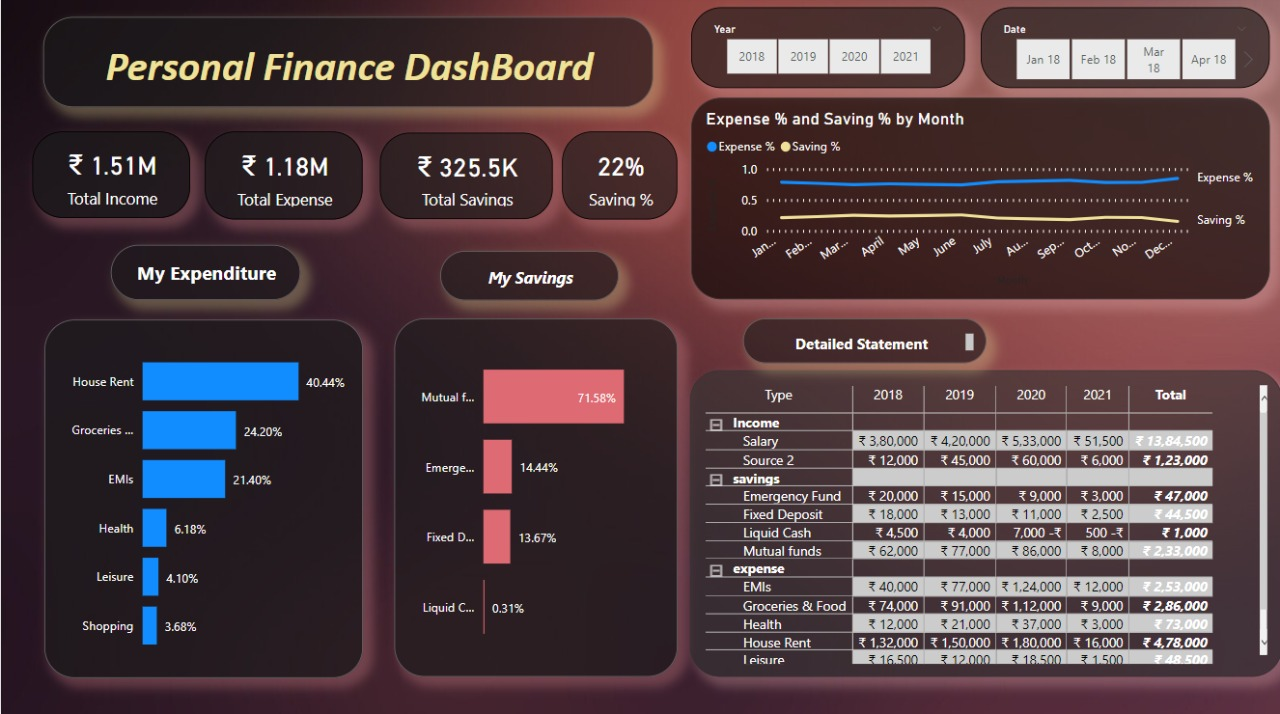

This screenshot's page, from the dashboard's own definition file:
{"tool":"powerbi","page":{"name":"Page 1","canvas":[1280,720],"ordinal":0},"visuals":[{"type":"slicer","fields":{"Values":["FinData.Year"]},"box":[689.4,12.4,273.3,81],"z":0},{"type":"card","fields":{"Values":["FinData.Total Income"]},"box":[30.8,136.5,157.9,86.5],"z":1000},{"type":"card","fields":{"Values":["FinData.Total Expense"]},"box":[203.8,136.5,157.9,87.9],"z":2000},{"type":"card","fields":{"Values":["FinData.Total Savings"]},"box":[379.1,137.3,173,86.5],"z":3000},{"type":"card","fields":{"Values":["FinData.Saving %"]},"box":[560.3,136,115.4,87.9],"z":4000},{"type":"slicer","fields":{"Values":["FinData.Date"]},"box":[979.2,12.4,288.4,81],"z":5000},{"type":"card","fields":{"Values":["FinData.Title"]},"box":[42.6,22,609.8,90.6],"z":6000},{"type":"clusteredBarChart","fields":{"Category":["FinData.Component"],"Y":["FinData.Total Expense"]},"box":[43.9,324.1,318.6,358.5],"z":6001},{"type":"textbox","box":[109.9,250,189.5,54.9],"z":6002},{"type":"textbox","box":[439.5,255.5,178.5,49.4],"z":6003},{"type":"clusteredBarChart","fields":{"Category":["FinData.Component"],"Y":["FinData.Total Savings"]},"box":[392.8,322.7,282.9,358.5],"z":6004},{"type":"lineChart","fields":{"Category":["FinData.Date.Variation.Date Hierarchy.Month"],"Y":["FinData.Expense %","FinData.Saving %"]},"box":[689.4,103,578.2,201.9],"z":6005},{"type":"pivotTable","fields":{"Values":["Sum(FinData.Value)"],"Rows":["type.Type","FinData.Component"],"Columns":["FinData.Year","FinData.Date"]},"box":[688.1,374.9,591.9,306.3],"z":6006},{"type":"textbox","box":[741.6,322.7,243.1,45],"z":6007}]}

Visuals, with their boxes in screenshot pixels (x1, y1, x2, y2), scaled from the page's 1280x720 canvas onto the 1280x714 screenshot:
slicer - FinData.Year: 689,12,963,93
card - FinData.Total Income: 31,135,189,221
card - FinData.Total Expense: 204,135,362,223
card - FinData.Total Savings: 379,136,552,222
card - FinData.Saving %: 560,135,676,222
slicer - FinData.Date: 979,12,1268,93
card - FinData.Title: 43,22,652,112
clusteredBarChart - FinData.Component x FinData.Total Expense: 44,321,362,677
textbox: 110,248,299,302
textbox: 440,253,618,302
clusteredBarChart - FinData.Component x FinData.Total Savings: 393,320,676,676
lineChart - FinData.Date.Variation.Date Hierarchy.Month x FinData.Expense %: 689,102,1268,302
pivotTable - Sum(FinData.Value) x type.Type: 688,372,1279,676
textbox: 742,320,985,365
